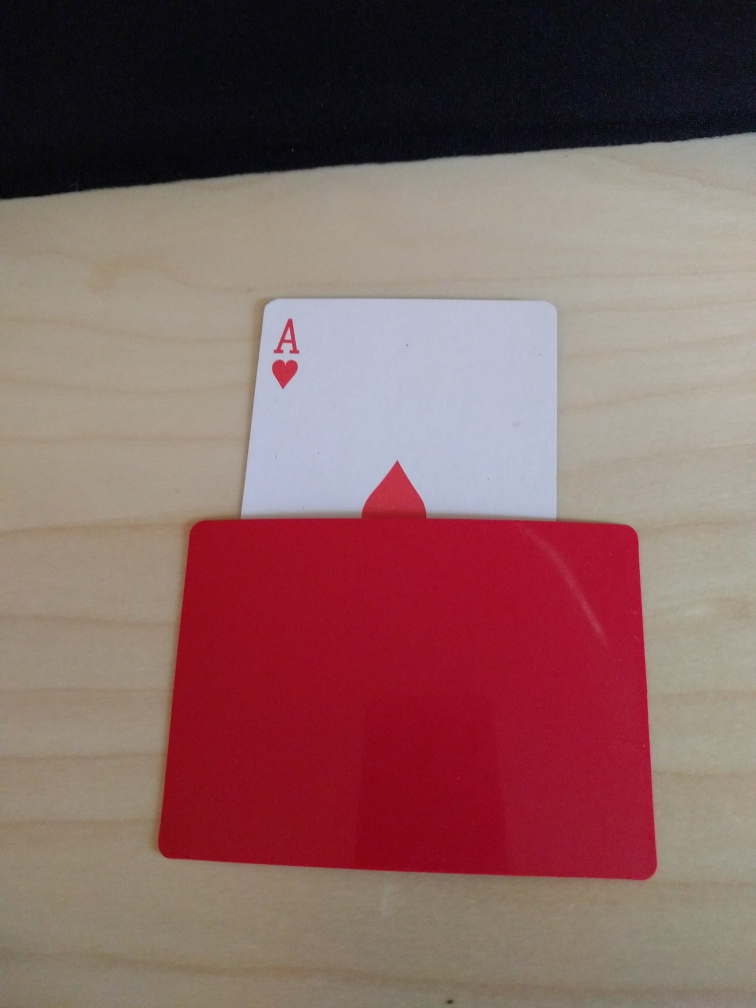ace: (239, 297, 558, 520)
